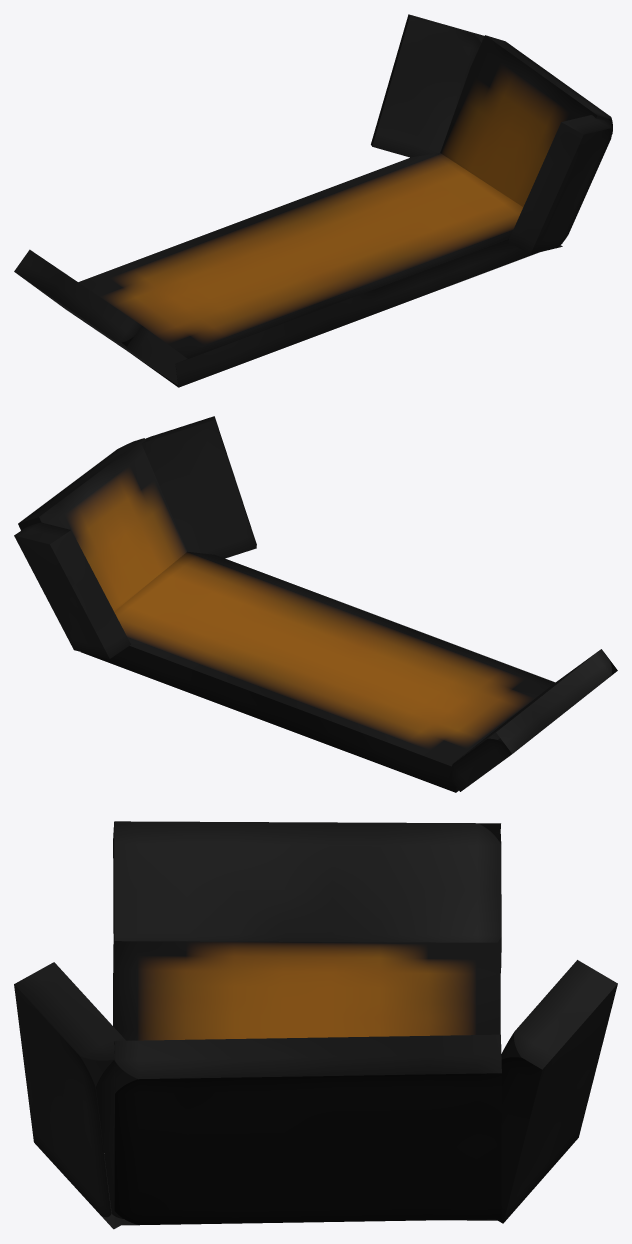
The model's file is seat.obj.
3 views of the same model, one above another, from view 1: azimuth 30°, elevation 25°; view 2: azimuth 150°, elevation 25°; view 3: azimuth 270°, elevation 25° (orthographic). The views are drawn at different scales.
Parts seen in each view (by area): view 1: Seat; view 2: Seat; view 3: Seat.
Boxes of the visible parts, box(x1,y1,x2,y2) form: Seat: box(14, 14, 612, 387); Seat: box(14, 416, 617, 792); Seat: box(14, 821, 617, 1229).
Size of the model in its own units: 1.32 by 0.4833 by 0.7802.
